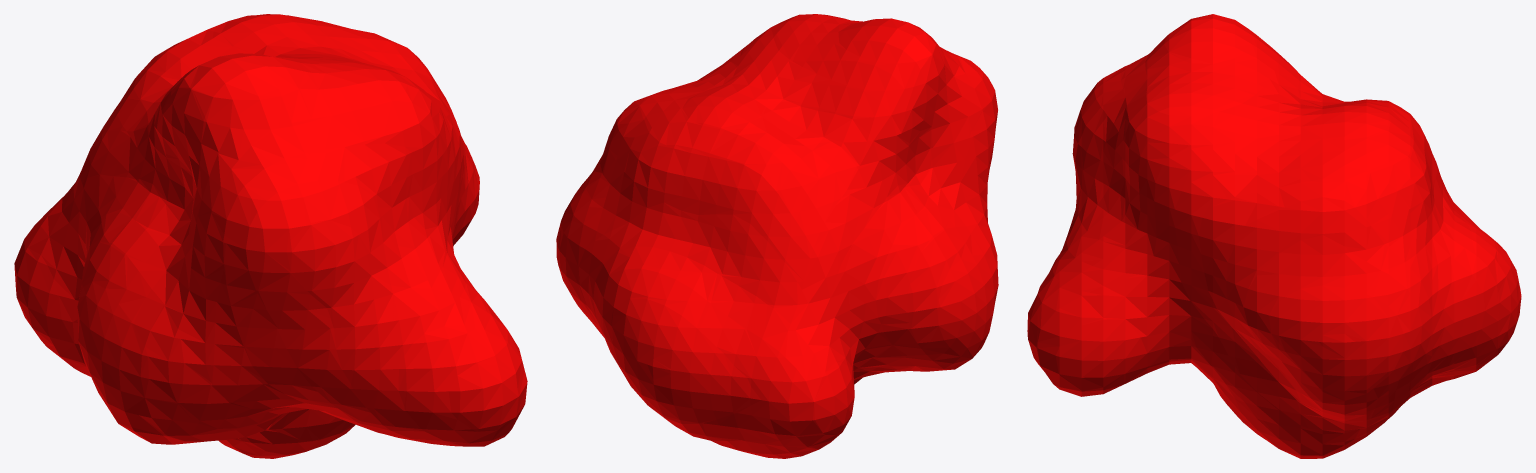
The model's file is yeaC_coarse.dae.
The picture shows the model from 3 angles, left to right: view 1: azimuth 30°, elevation 25°; view 2: azimuth 150°, elevation 25°; view 3: azimuth 270°, elevation 25°; orthographic projection. The views are drawn at different scales.
Visible parts, largest first — view 1: yeaC; view 2: yeaC; view 3: yeaC.
Part boxes in pixels (x1,y1,x2,y2): yeaC: [14, 14, 527, 458]; yeaC: [556, 14, 998, 458]; yeaC: [1027, 14, 1521, 458].
Bounding box in the file's own units: 34.02 × 35 × 41.24.
